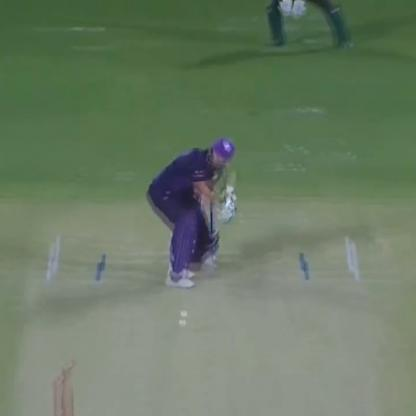ball: (168, 308, 194, 324), (166, 318, 192, 331)
bat: (217, 168, 246, 220)
pitch: (20, 230, 374, 415)
